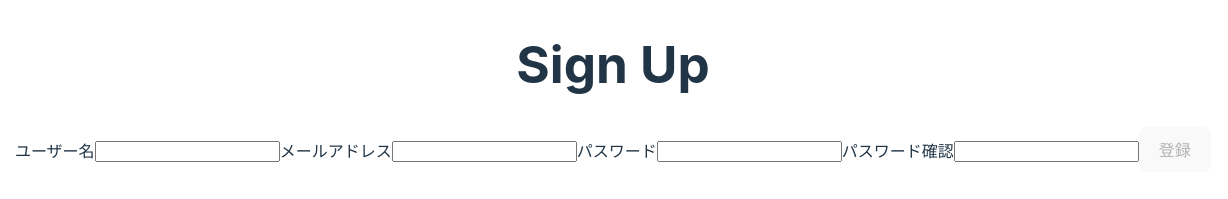
it: SignUpPage › インタラクション › 登録時にサーバーからエラーが返された場合、エラーメッセージを表示する
Type "Error1" into the field labelled "ユーザー名" at (187, 152), box [95,142,280,162]
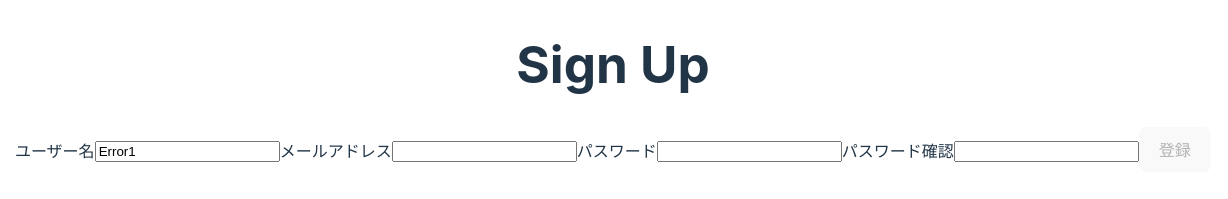
Type "user@example.com" into the field labelled "メールアドレス" at (484, 152), box [392,142,577,162]
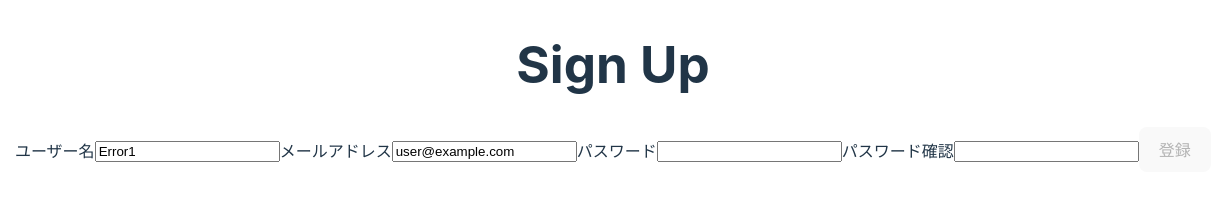
Type "P4ssw0rd" into the password field labelled "パスワード" at (749, 152), box [657,142,842,162]
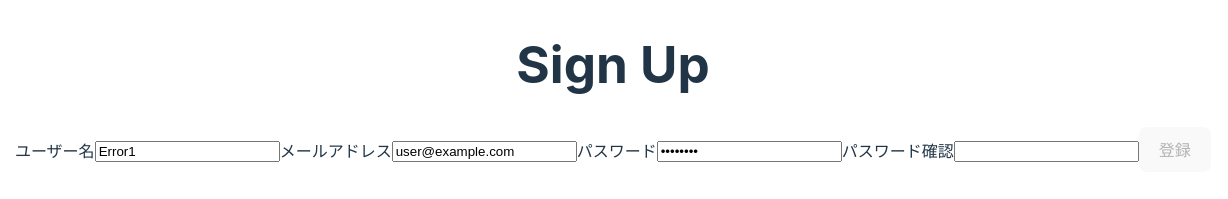
Type "P4ssw0rd" into the password field labelled "パスワード確認" at (1046, 152), box [954,142,1139,162]
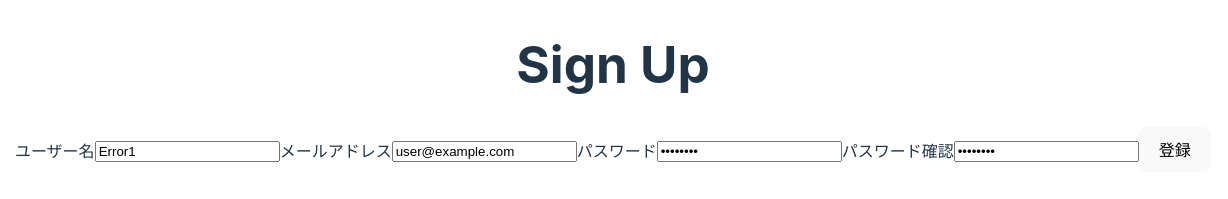
Click the button "登録" at (1175, 150), box [1139,127,1211,172]
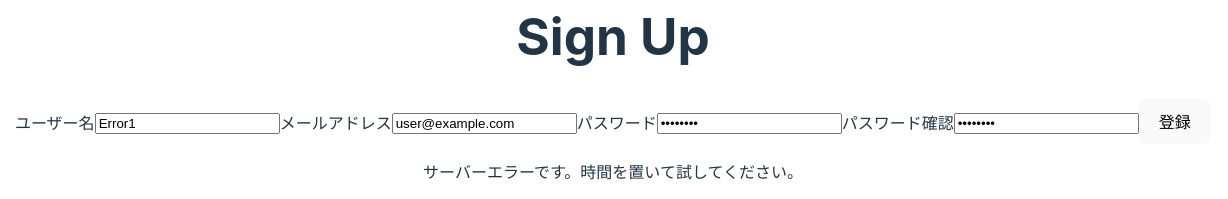
Result: the text "サーバーエラーです。時間を置いて試してください。" is shown at [423,162,803,182]
